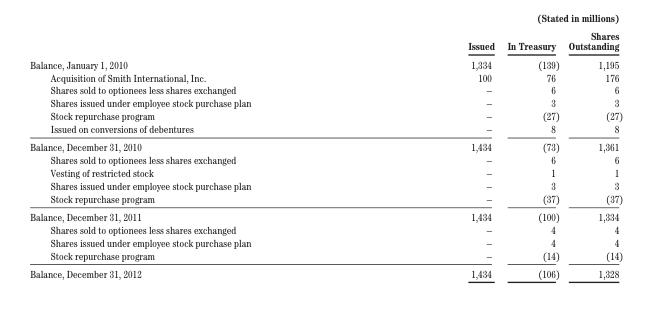table: (29, 29, 622, 279)
table column: (29, 29, 358, 279), (358, 29, 500, 279), (500, 29, 563, 279), (563, 29, 622, 279)
table column header: (29, 29, 622, 54)
table row: (29, 29, 622, 54), (29, 54, 622, 70), (29, 137, 622, 153), (29, 191, 622, 207), (29, 248, 622, 264), (29, 122, 622, 137), (29, 207, 622, 222), (29, 264, 622, 279), (29, 70, 622, 83), (29, 83, 622, 96), (29, 96, 622, 109), (29, 109, 622, 122), (29, 153, 622, 166), (29, 178, 622, 191), (29, 222, 622, 235), (29, 235, 622, 248), (29, 166, 622, 178)
